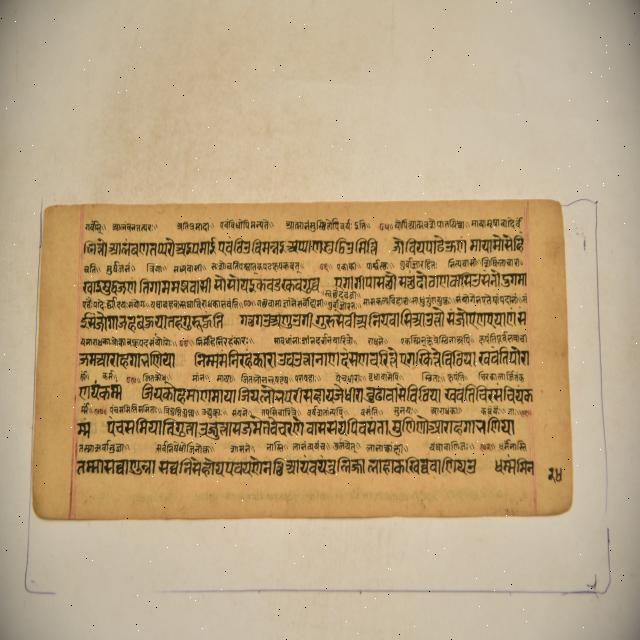text_paragraph: (29, 199, 571, 512)
